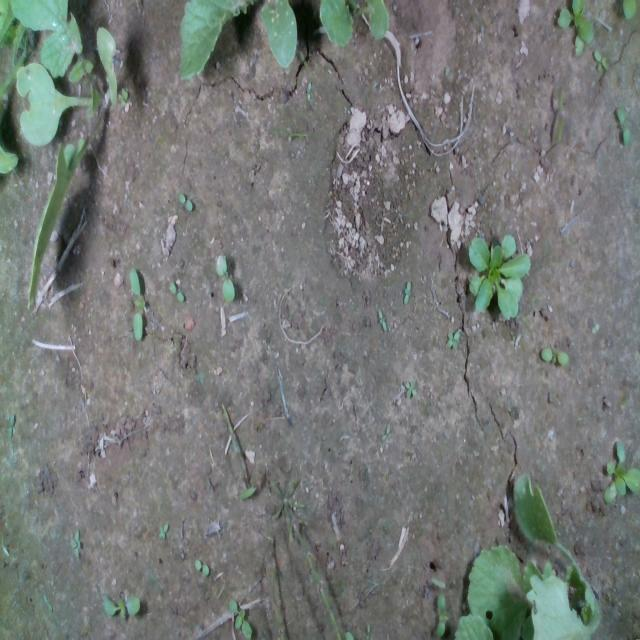weed: (128, 267, 144, 342), (212, 251, 235, 302), (101, 590, 141, 619), (615, 103, 631, 146), (539, 344, 570, 366), (168, 278, 185, 302), (593, 47, 609, 72), (68, 526, 80, 558), (403, 377, 417, 401), (177, 192, 193, 212), (193, 556, 209, 576), (446, 328, 460, 349), (376, 306, 387, 332), (380, 420, 392, 441), (402, 277, 410, 303), (158, 522, 168, 540), (590, 321, 600, 334)
